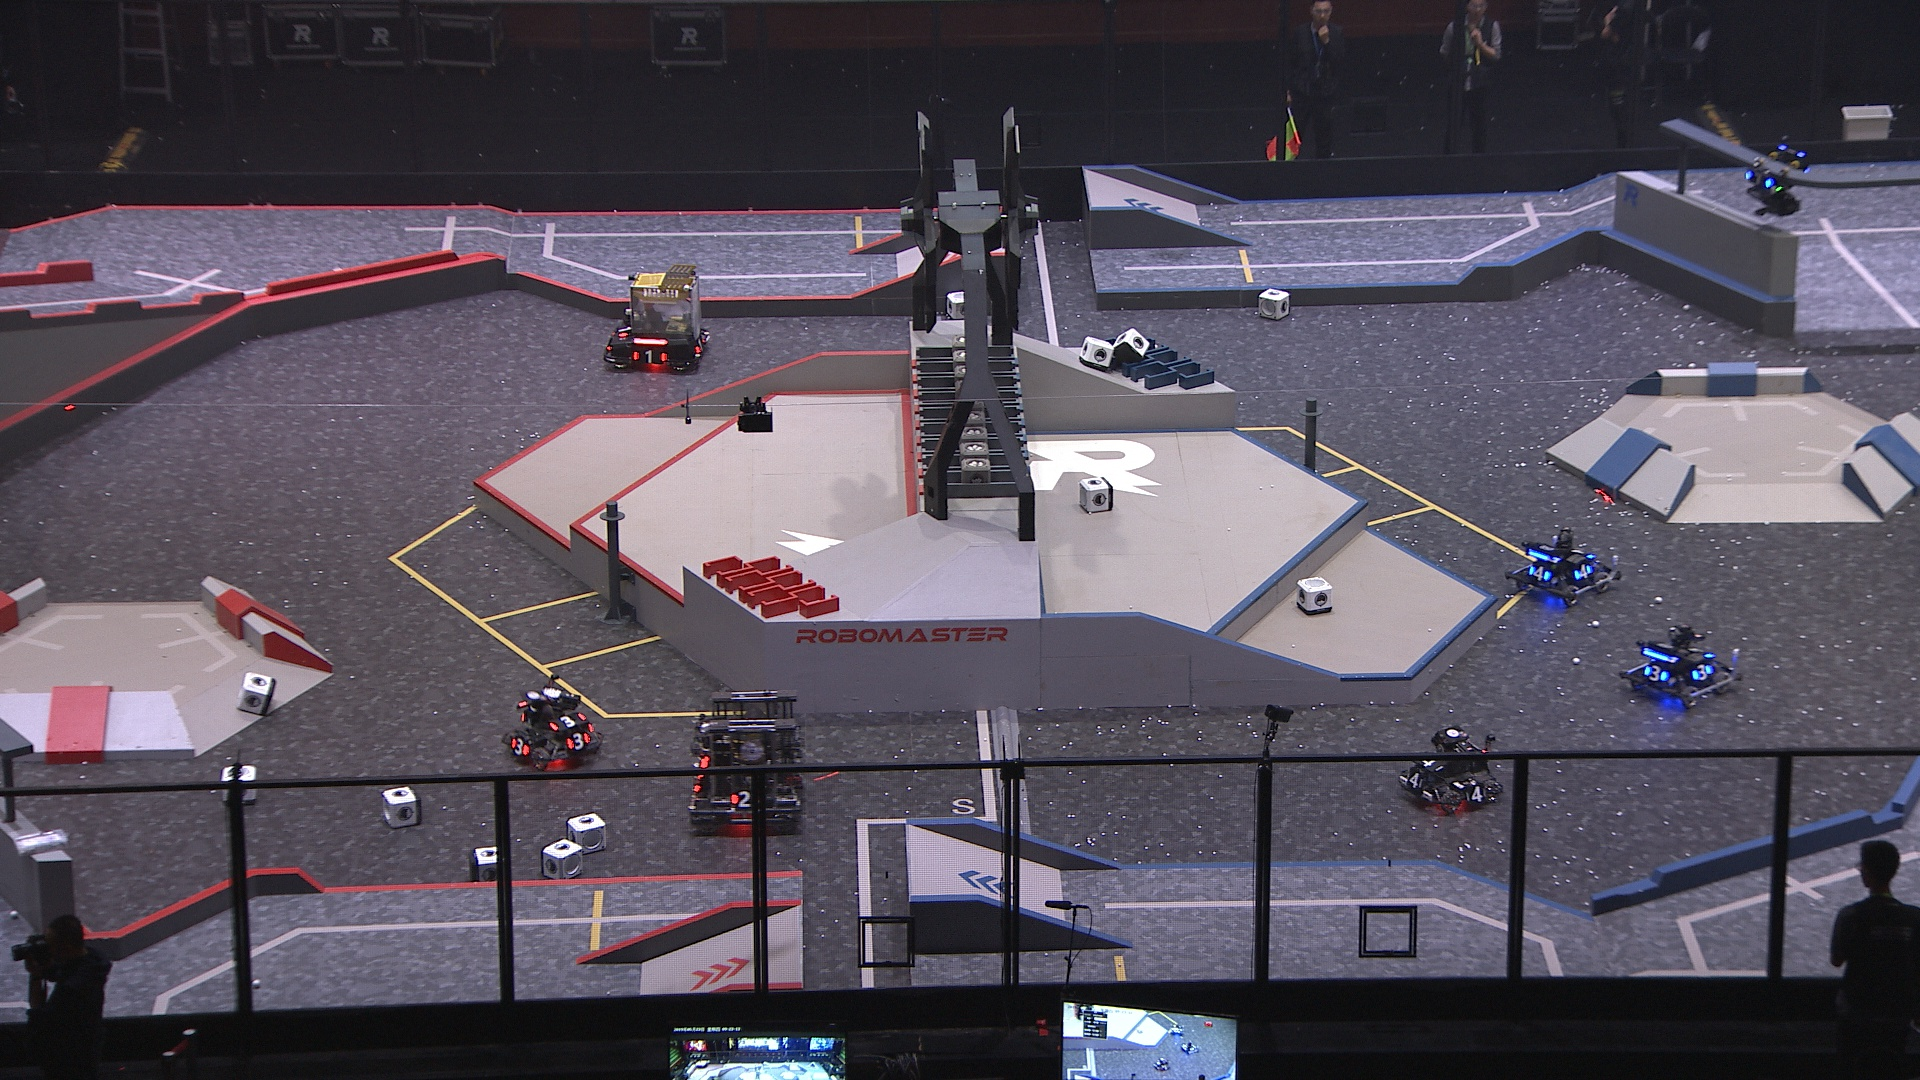armor: (545, 712, 584, 732), (1746, 167, 1776, 193), (629, 348, 667, 367), (727, 789, 756, 812), (1418, 752, 1447, 773), (1691, 661, 1716, 684), (506, 735, 531, 757), (1642, 662, 1667, 684), (1462, 783, 1489, 804), (1524, 564, 1552, 584), (611, 316, 632, 342), (566, 731, 591, 752), (1571, 560, 1594, 582), (688, 334, 707, 360), (1408, 769, 1425, 793)
car: (680, 680, 828, 828), (603, 258, 716, 372), (1618, 618, 1743, 709), (1509, 522, 1619, 616), (501, 671, 611, 765), (1400, 717, 1505, 811)
watcher: (1741, 131, 1820, 220)
